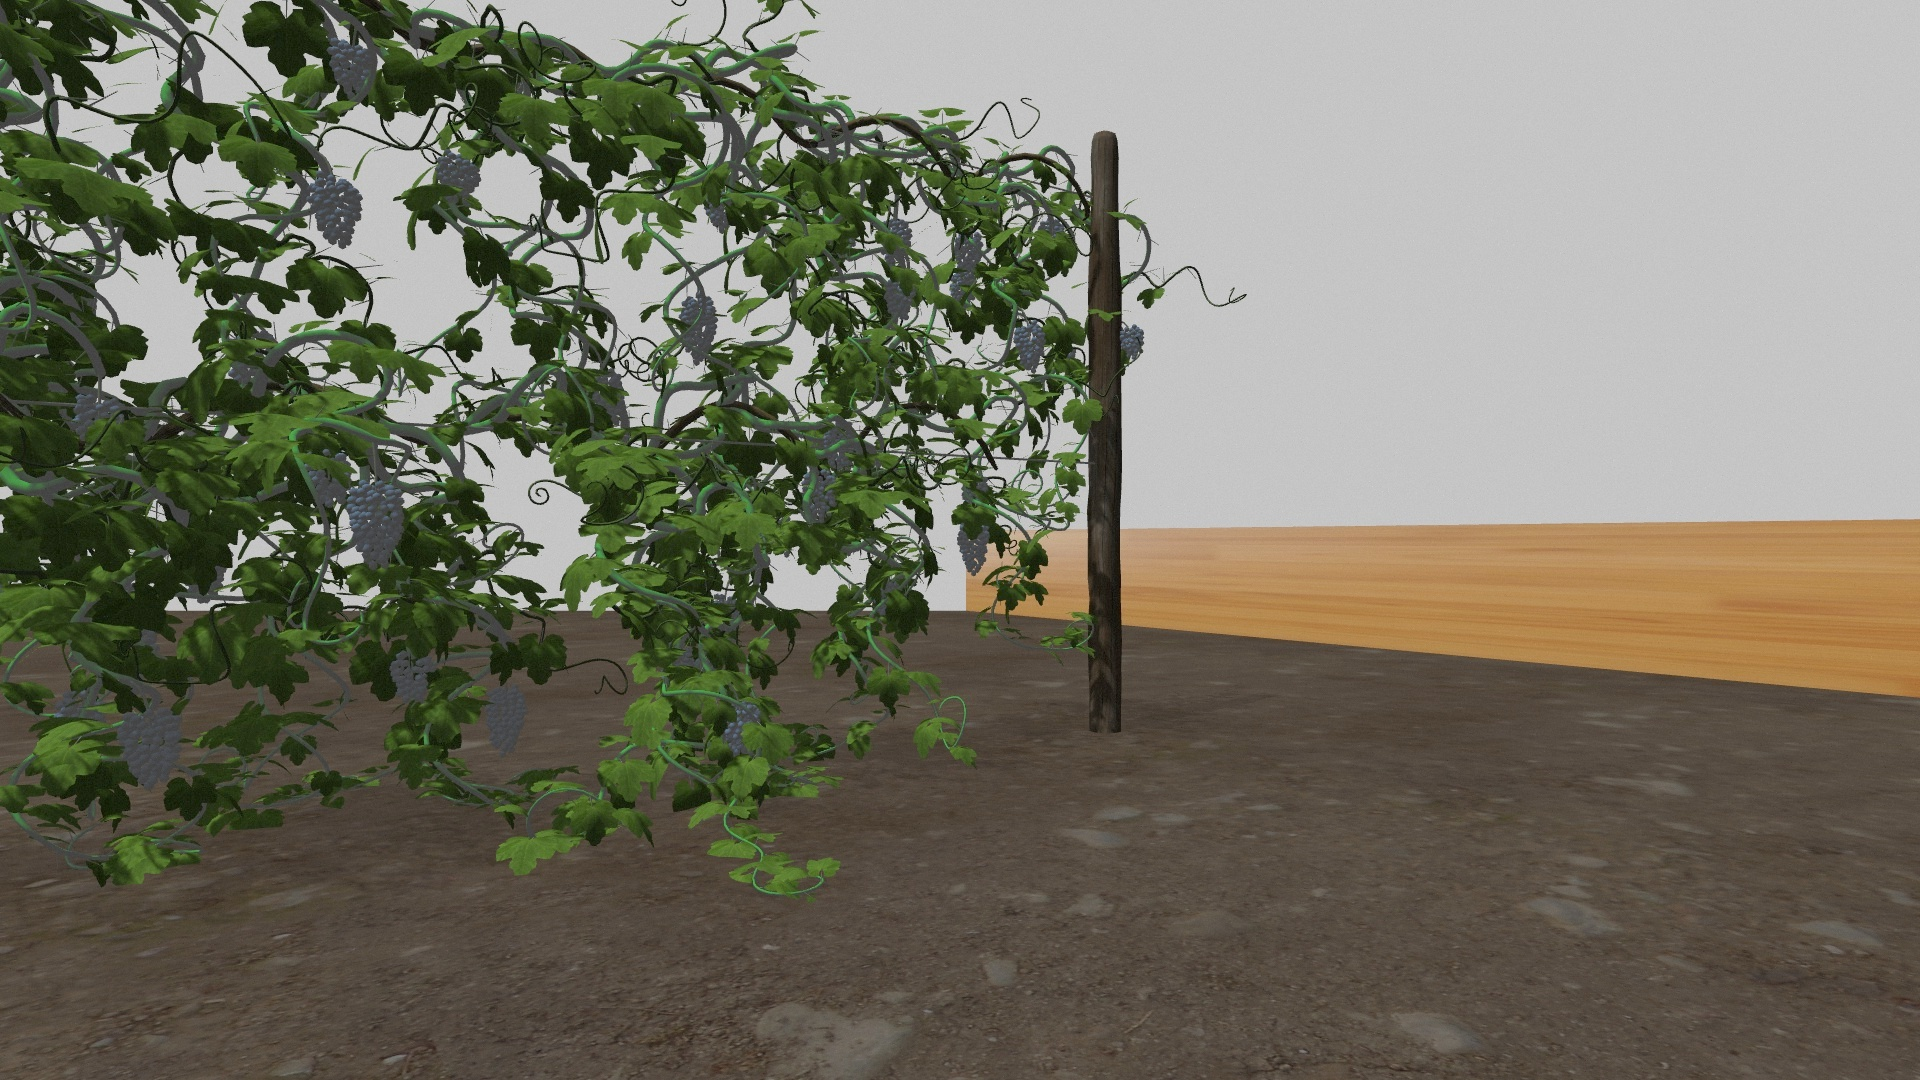grape: (116, 702, 182, 789), (347, 483, 407, 574), (309, 173, 363, 249), (477, 683, 527, 756), (675, 294, 717, 365), (388, 649, 436, 708), (303, 447, 349, 506), (327, 40, 372, 98), (70, 393, 116, 439), (434, 153, 483, 196), (800, 469, 837, 524), (957, 522, 992, 575), (1011, 320, 1044, 373), (725, 705, 760, 756), (880, 218, 913, 268), (824, 427, 855, 473), (884, 280, 913, 320), (955, 233, 982, 272), (948, 272, 976, 302), (1121, 324, 1145, 357)
